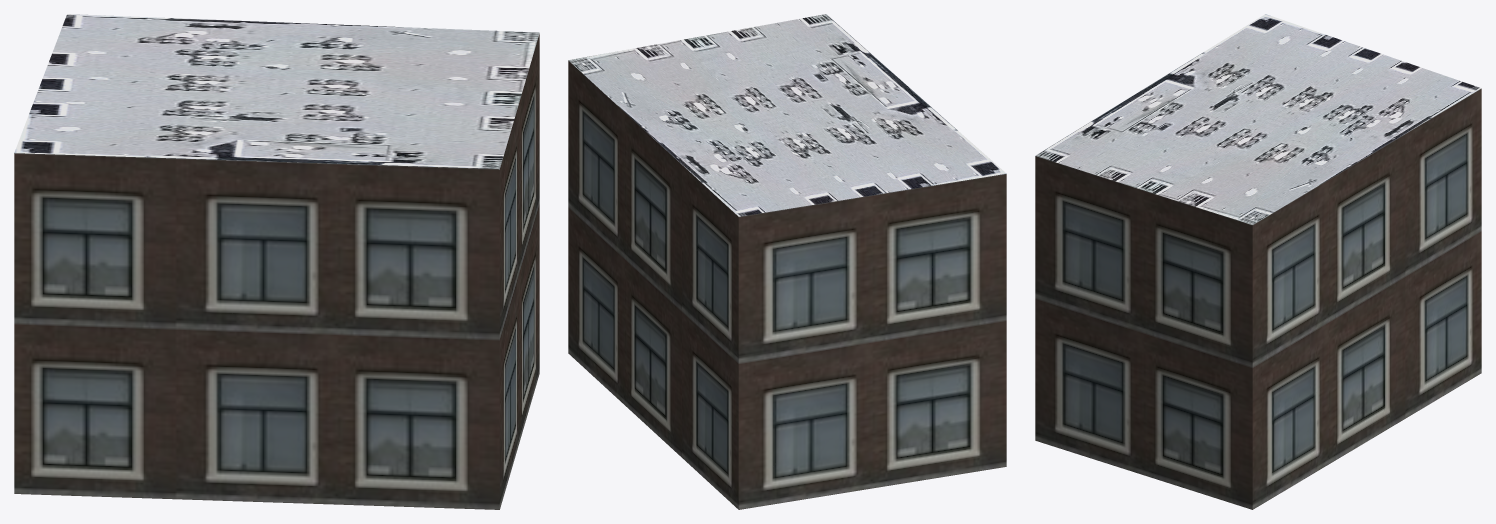
The model's file is ResTex__3808.fbx.
3 views of the same model, side by side, from view 1: azimuth 30°, elevation 25°; view 2: azimuth 150°, elevation 25°; view 3: azimuth 270°, elevation 25° (orthographic). The views are drawn at different scales.
Visible parts, largest first — view 1: CityEngineMaterial_16_m, CityEngineMaterial_15_m; view 2: CityEngineMaterial_16_m, CityEngineMaterial_15_m; view 3: CityEngineMaterial_16_m, CityEngineMaterial_15_m.
Part boxes in pixels (x1=…): CityEngineMaterial_16_m: x1=14, y1=33, x2=539, y2=509; CityEngineMaterial_15_m: x1=14, y1=14, x2=539, y2=169; CityEngineMaterial_16_m: x1=568, y1=60, x2=1006, y2=509; CityEngineMaterial_15_m: x1=568, y1=14, x2=1006, y2=216; CityEngineMaterial_16_m: x1=1035, y1=88, x2=1481, y2=509; CityEngineMaterial_15_m: x1=1035, y1=14, x2=1481, y2=224.
Size of the model in its own units: 9.54 by 6 by 8.53.
Materials: 2 (2 with a texture image).
